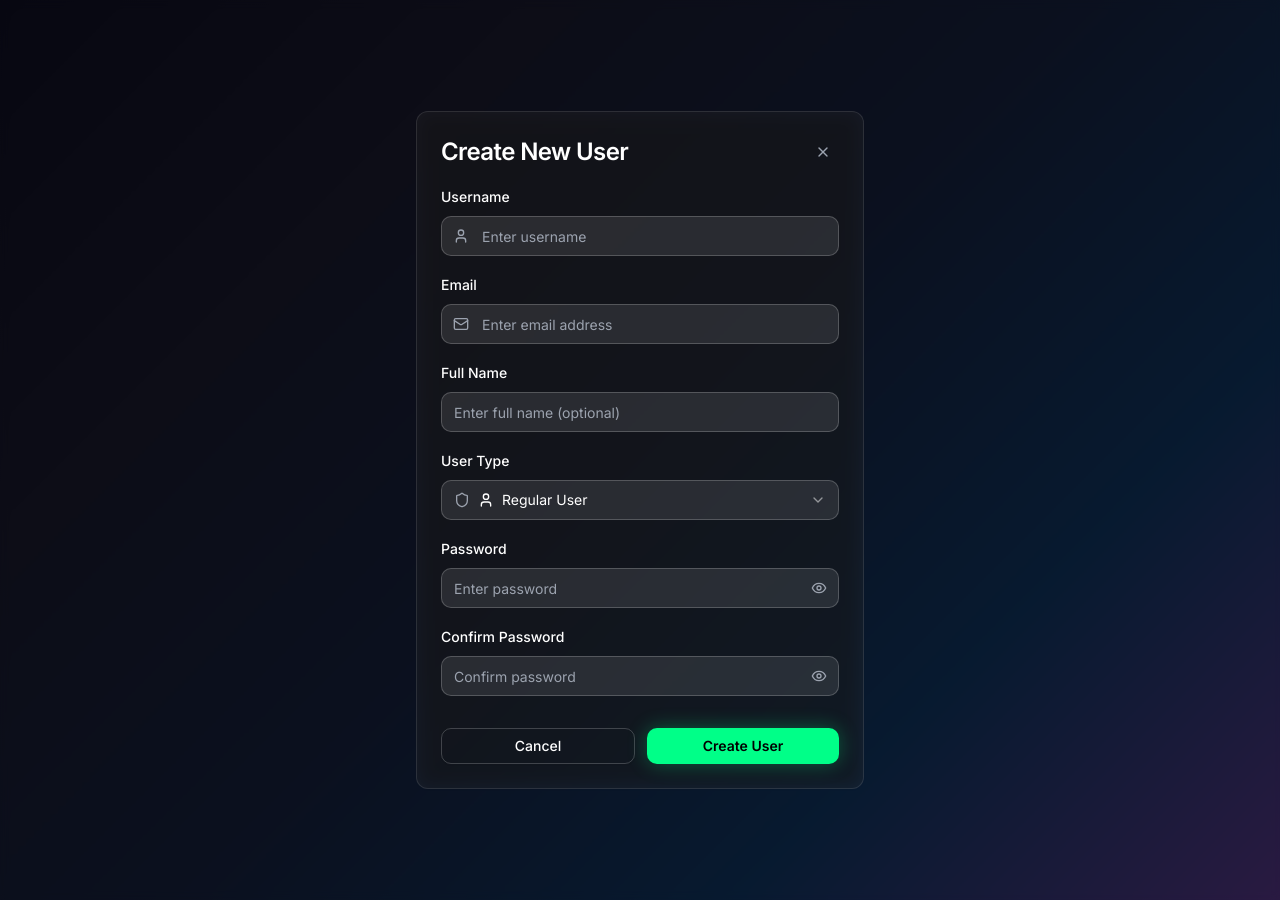
Test: UserForm › handles API errors
Type "existinguser" into the field labelled "Username" at (640, 236), box [441,216,839,256]
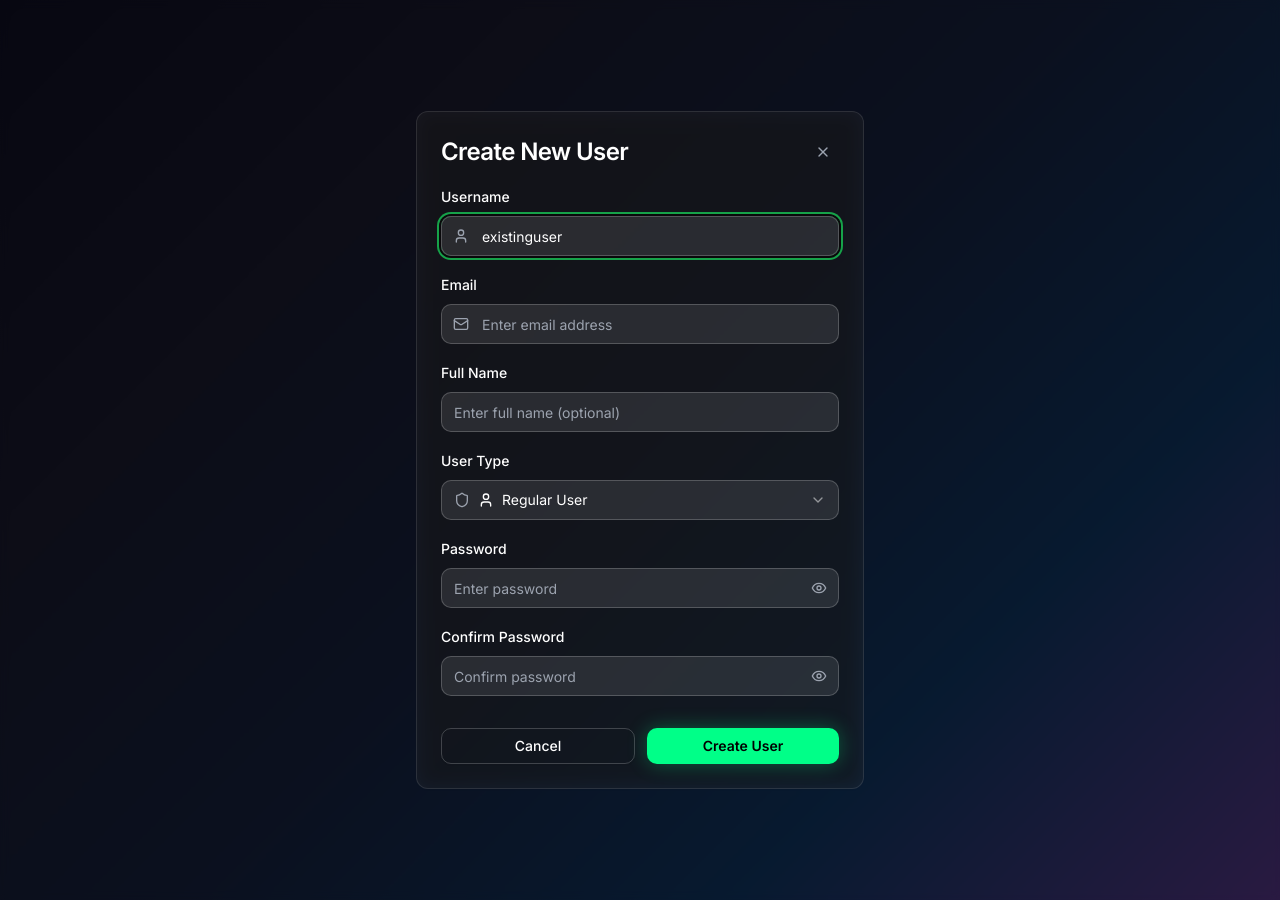
Type "test@example.com" into the field labelled "Email" at (640, 324), box [441,304,839,344]
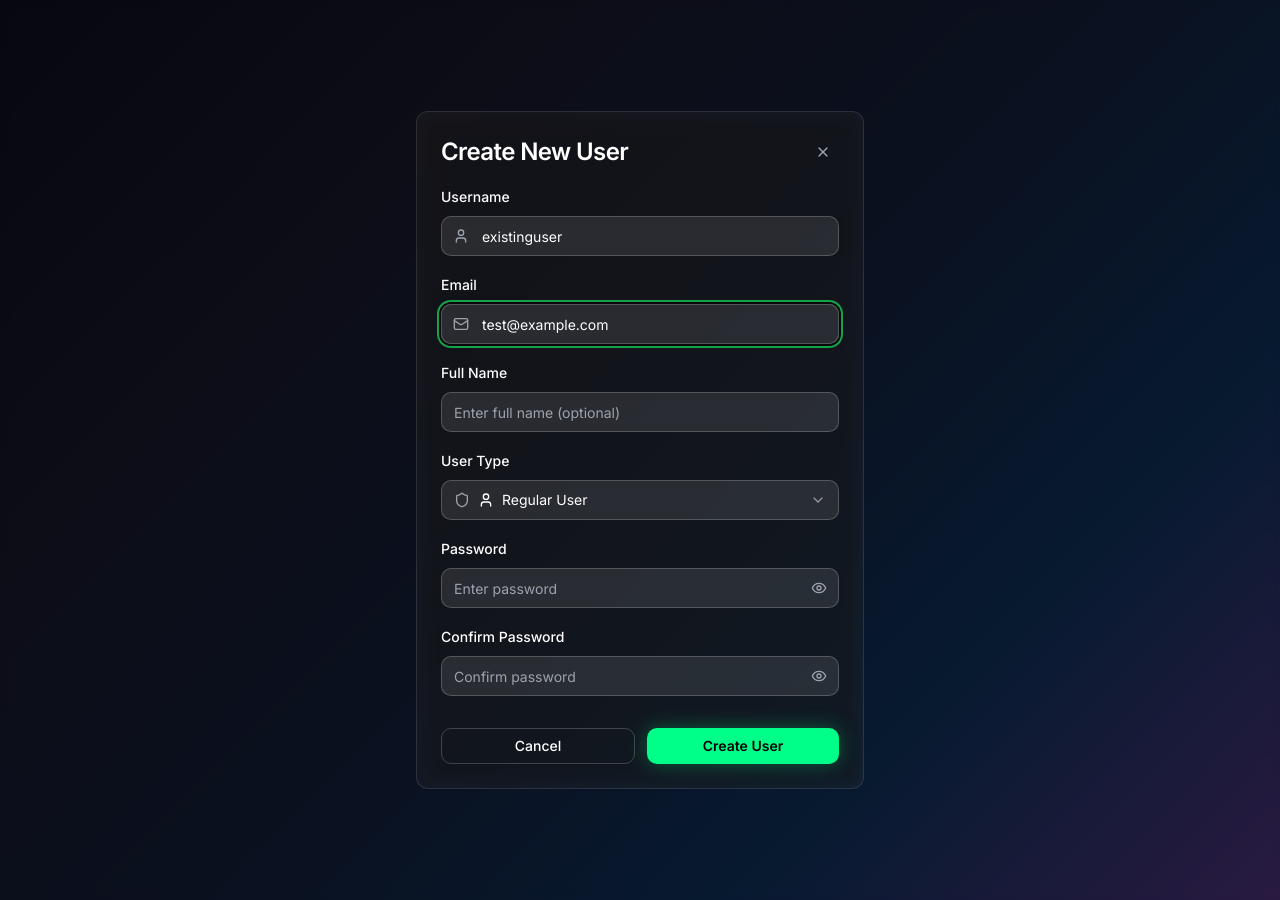
Type "Test User" into the field labelled "Full Name" at (640, 412), box [441,392,839,432]
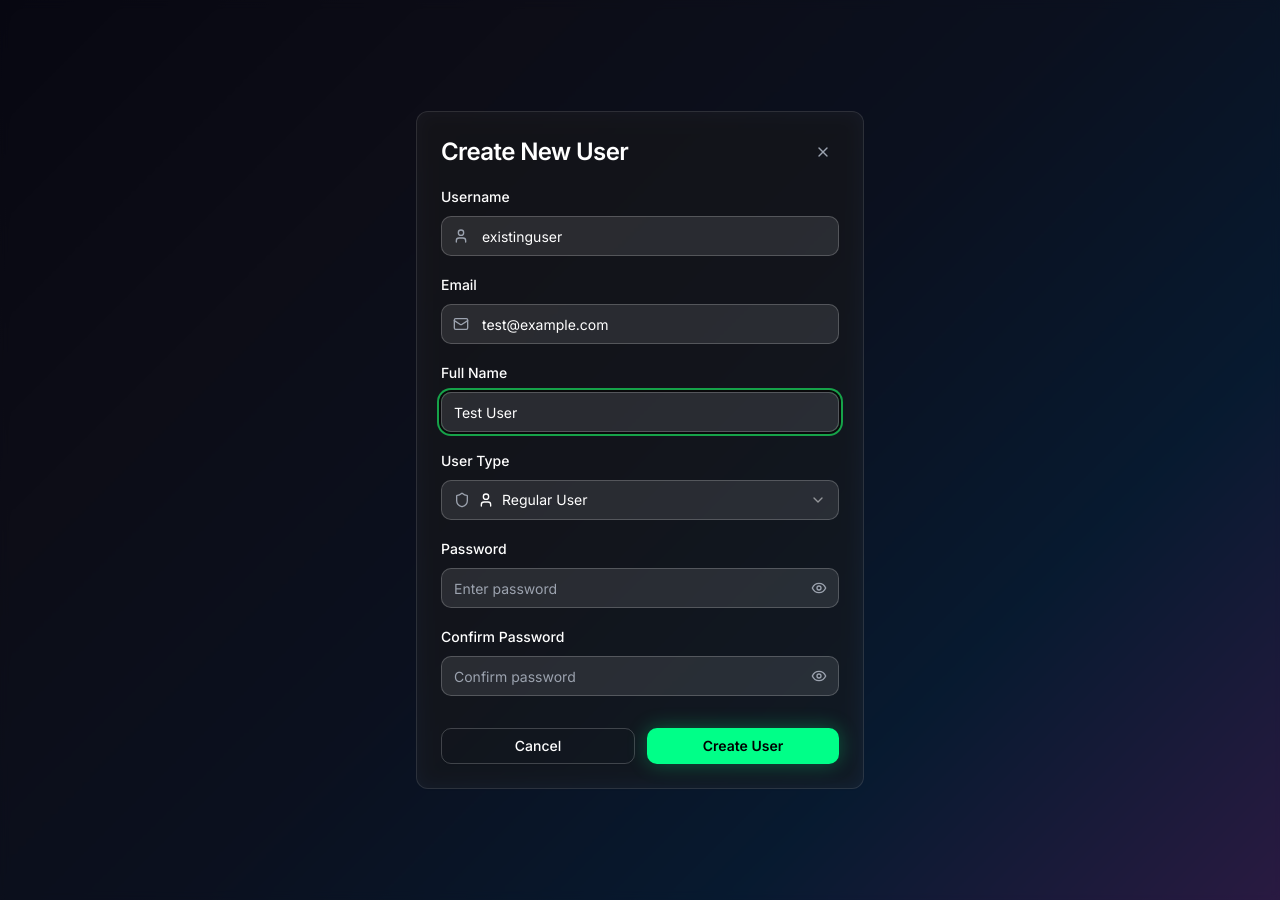
Type "password123" into the password field labelled "Password" at (640, 588), box [441,568,839,608]
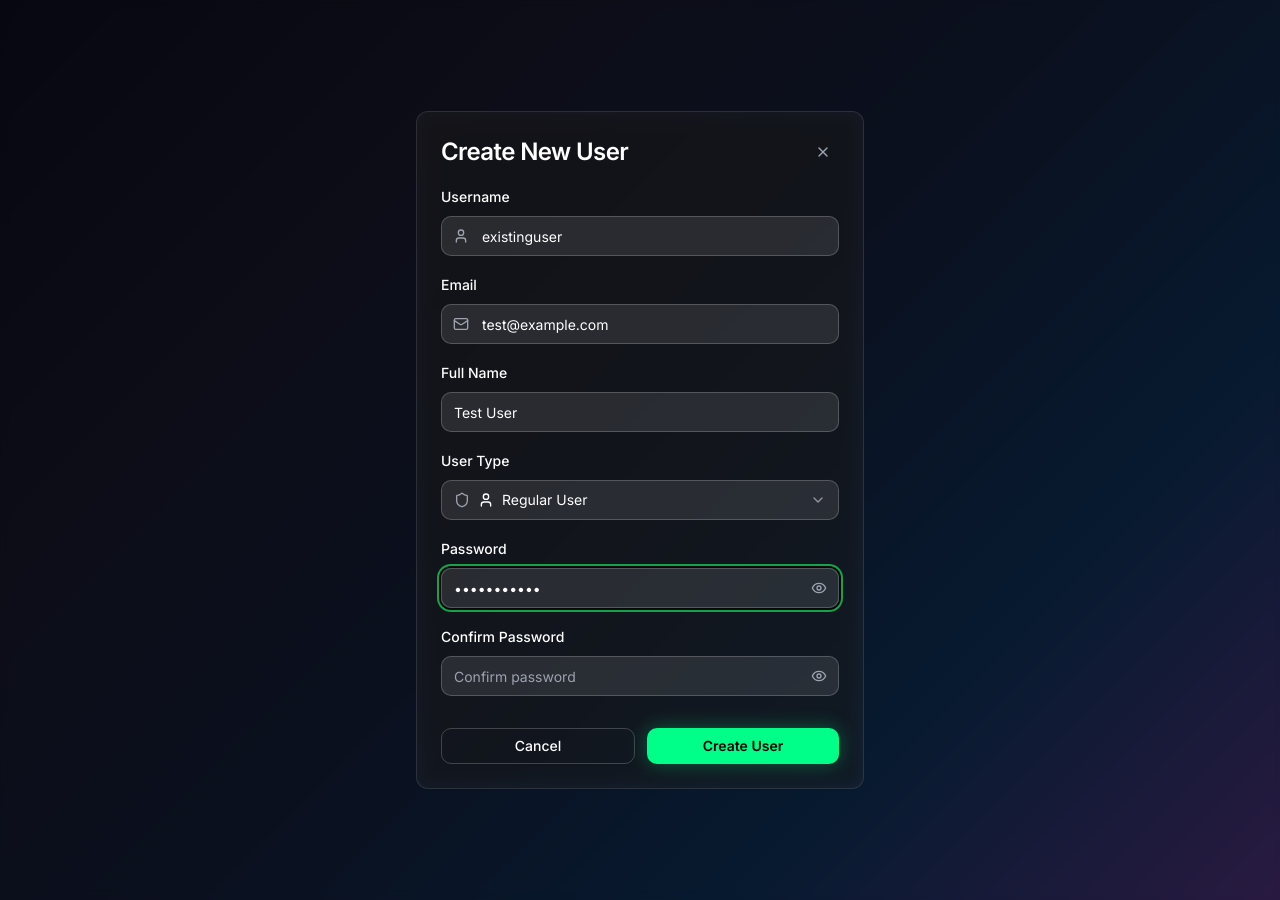
Type "password123" into the password field labelled "Confirm Password" at (640, 676), box [441,656,839,696]
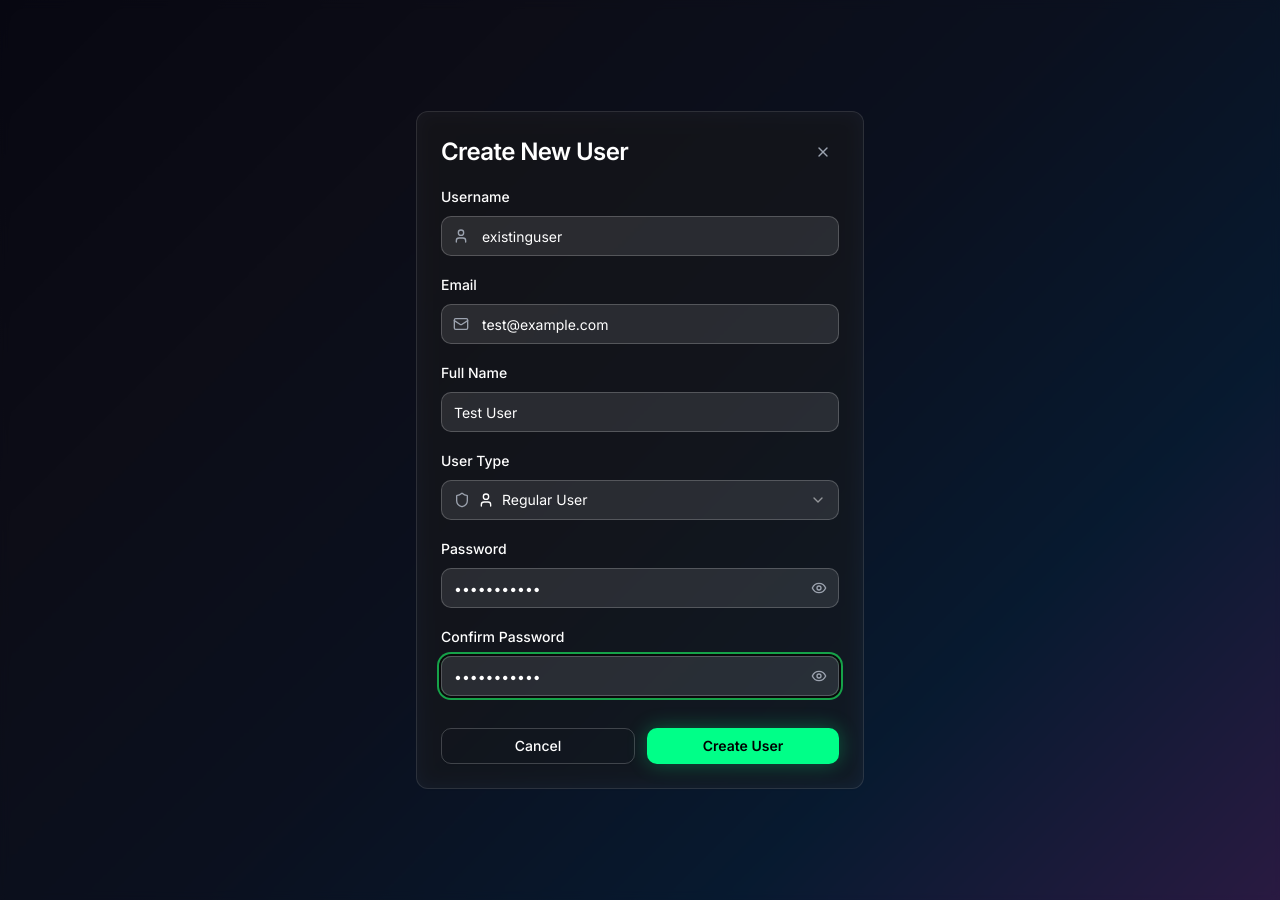
Click the button "Create User" at (743, 746), box [647,728,839,764]
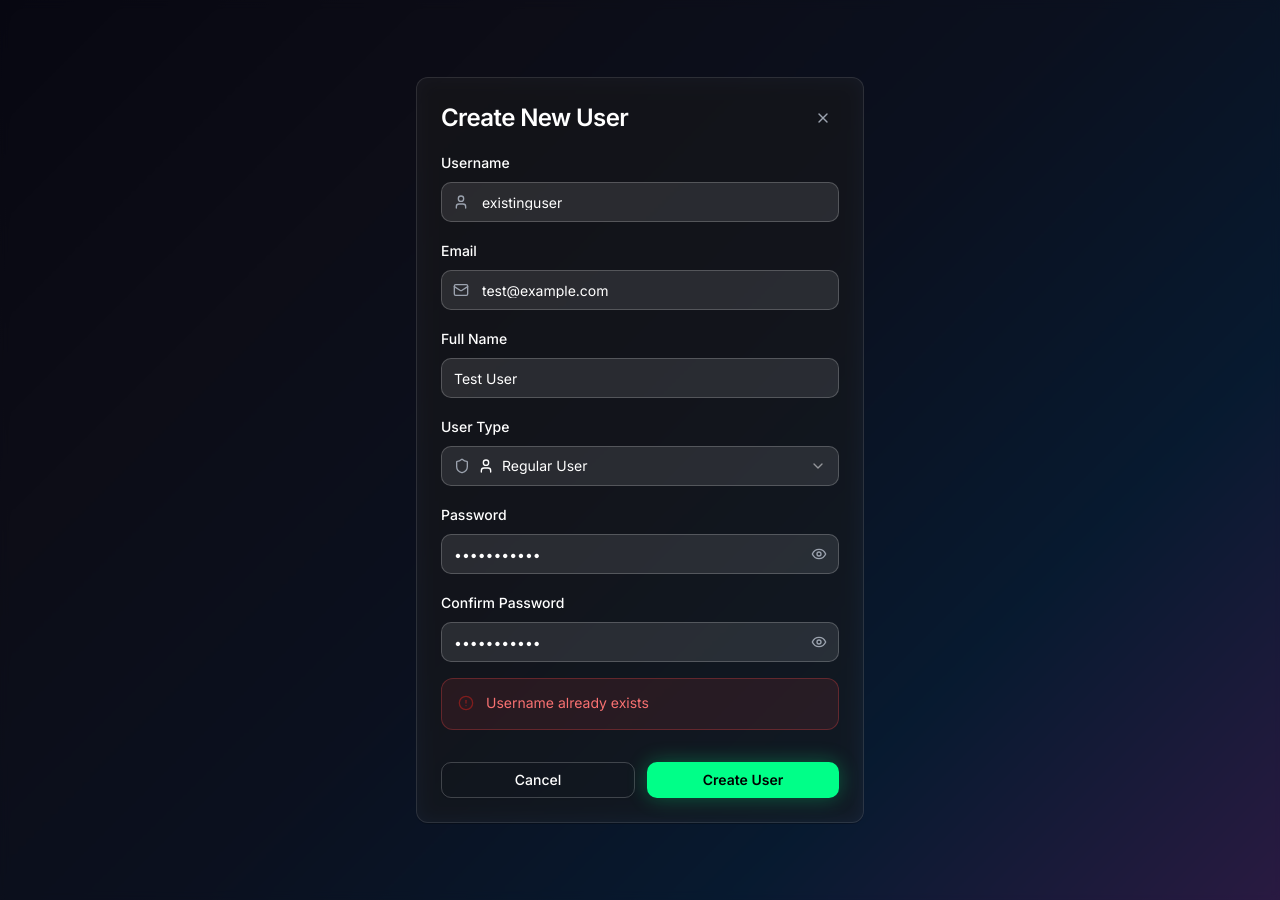
Expected: the text "Username already exists" is shown, [486,694,649,711]
